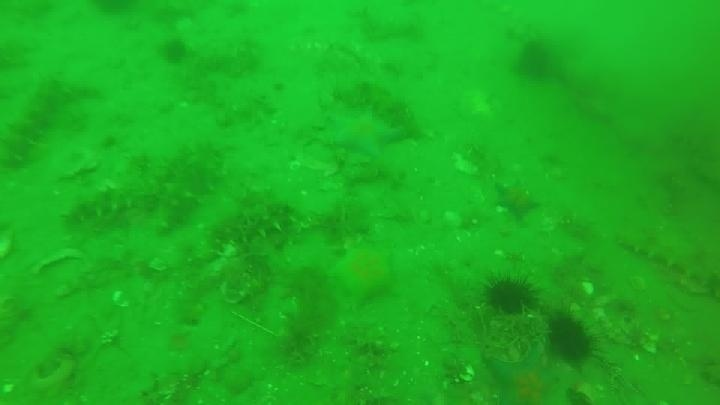echinus: (545, 311, 596, 365), (482, 274, 539, 317), (513, 39, 557, 83), (159, 37, 190, 65)
holothurian: (615, 225, 717, 294), (150, 141, 226, 233), (1, 76, 74, 171), (339, 79, 429, 142), (61, 181, 157, 227), (207, 200, 299, 248)
starfish: (486, 344, 564, 404), (330, 242, 398, 306), (324, 108, 405, 160), (492, 179, 542, 223)
